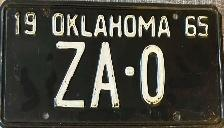A: (90, 41, 122, 110)
O: (138, 41, 167, 108)
Z: (53, 39, 87, 112)
